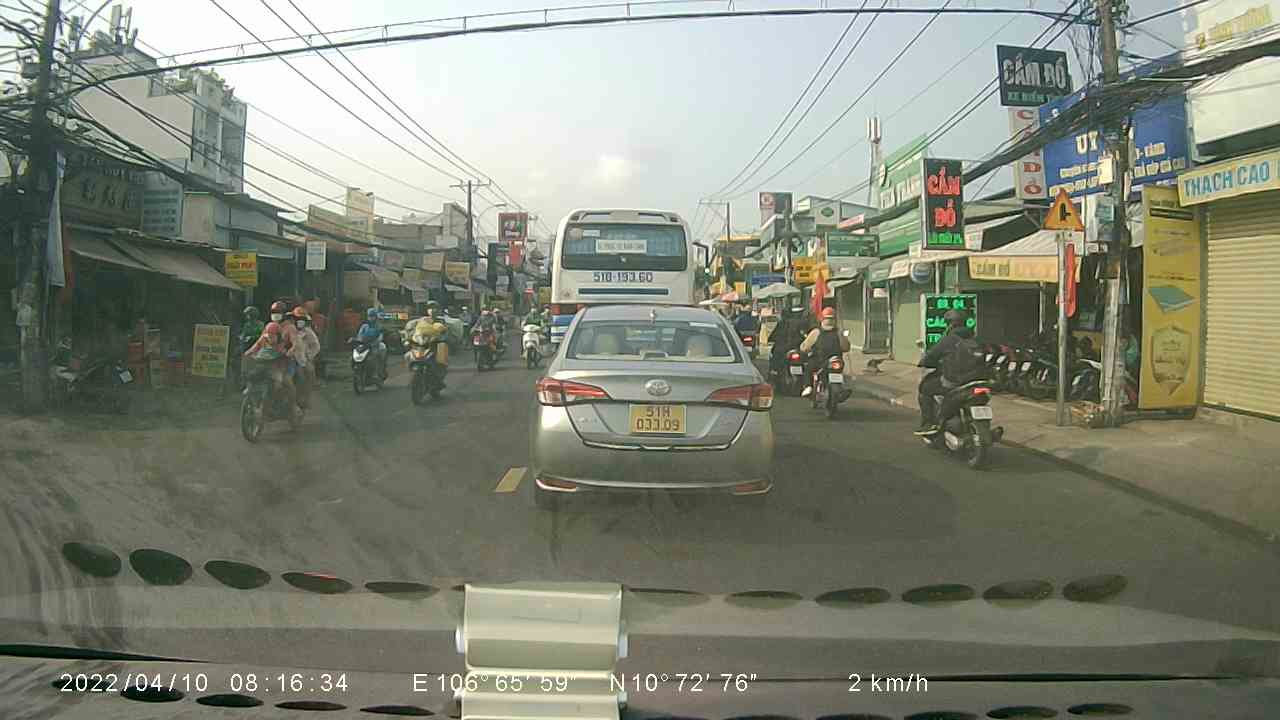Giao nhau voi duong khong uu tien: (1041, 182, 1092, 235)
